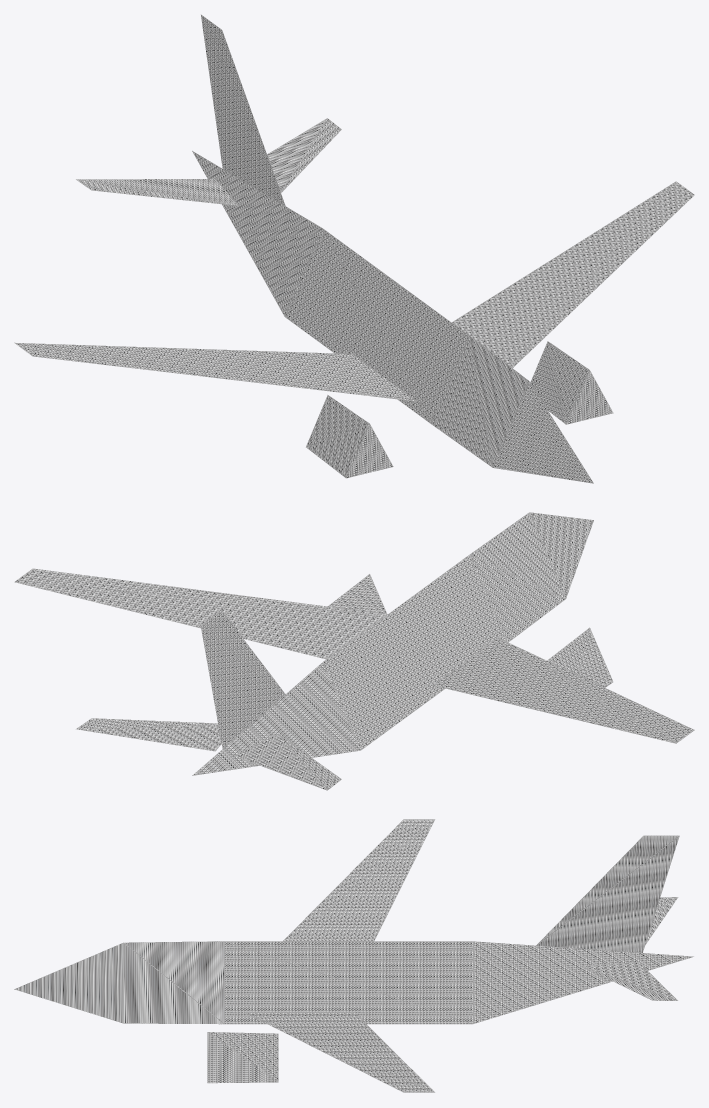
The model's file is SBAI_Airbus_A220-100_MSFS_LOD1.gltf.
The picture shows the model from 3 angles, top to bottom: view 1: azimuth 30°, elevation 25°; view 2: azimuth 150°, elevation 25°; view 3: azimuth 270°, elevation 25°; orthographic projection. The views are drawn at different scales.
Parts seen in each view (by area): view 1: node1; view 2: node1; view 3: node1.
Boxes of the visible parts, left/top/right/bottom form: node1: left=14, top=14, right=694, bottom=483; node1: left=14, top=512, right=694, bottom=790; node1: left=14, top=819, right=693, bottom=1092.
Size of the model in its own units: 33.09 by 10.85 by 34.82.
